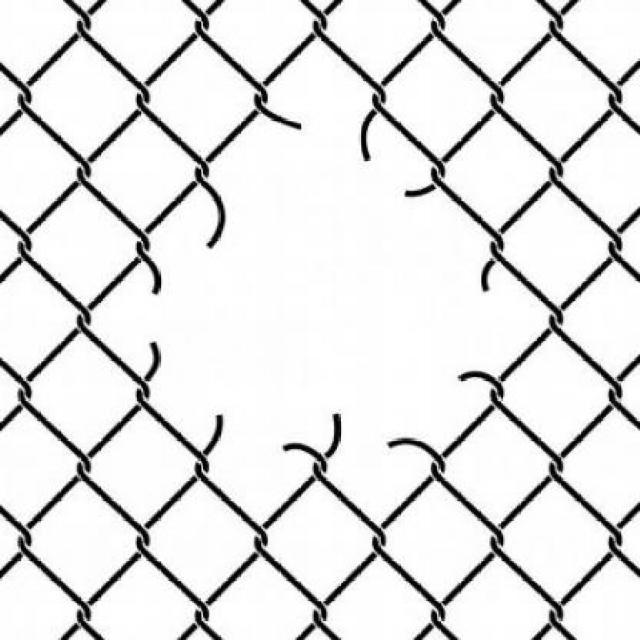fence line: (149, 104, 520, 476)
